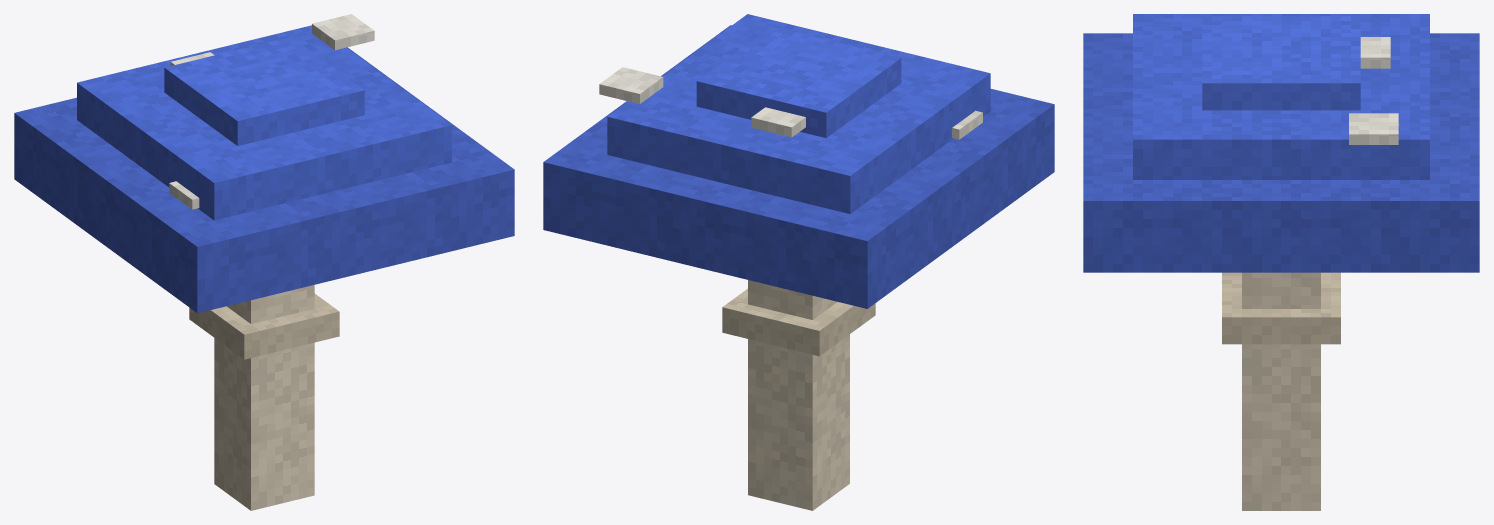
The model's file is mushroom_blue.glb.
The picture shows the model from 3 angles, left to right: view 1: azimuth 30°, elevation 25°; view 2: azimuth 150°, elevation 25°; view 3: azimuth 270°, elevation 25°; orthographic projection. The views are drawn at different scales.
Parts seen in each view (by area): view 1: Tree; view 2: Tree; view 3: Tree.
Boxes of the visible parts, <box> form: Tree: <box>14,14,514,510</box>; Tree: <box>543,14,1054,510</box>; Tree: <box>1083,14,1479,510</box>.
Bounding box in the file's own units: 2 × 2.47 × 2.
7 materials, 7 textured.
